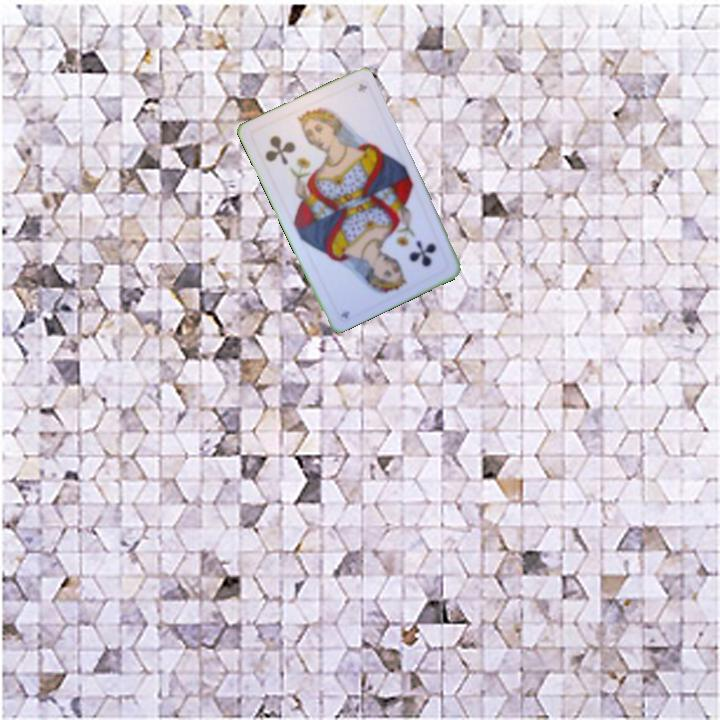c_q.png: (369, 216, 453, 295), (248, 104, 332, 183)
